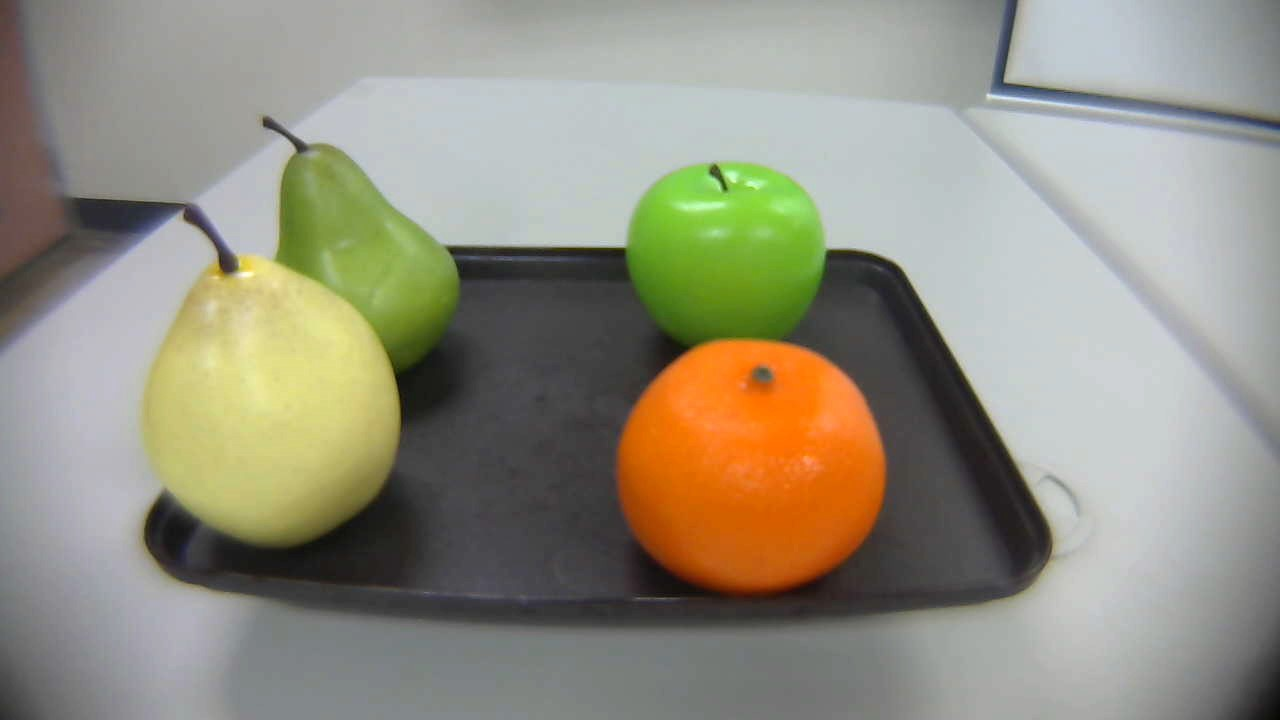green apple: (617, 161, 827, 364)
green pear: (250, 108, 455, 381)
orange: (610, 336, 885, 603)
western pear: (120, 189, 413, 556)
